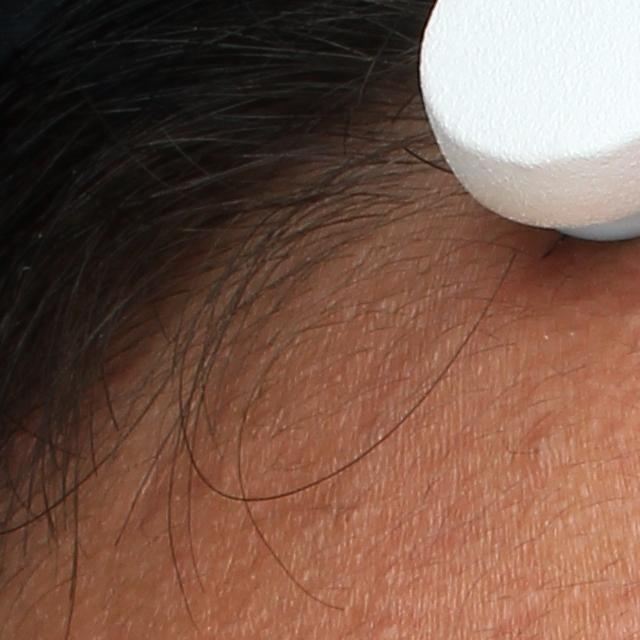comedo: (527, 436, 549, 466), (376, 619, 400, 639)
